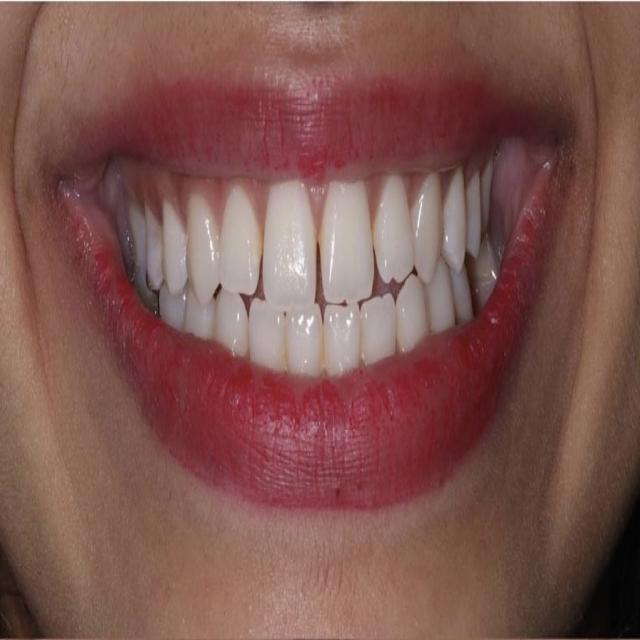tooth: (318, 186, 378, 306), (264, 180, 318, 312), (216, 188, 264, 300), (367, 190, 415, 277), (182, 199, 220, 294), (158, 214, 194, 295), (322, 304, 364, 373), (414, 178, 442, 280), (211, 293, 247, 361), (362, 298, 403, 353), (446, 169, 468, 262), (252, 305, 284, 367), (156, 279, 194, 330), (398, 284, 429, 344), (143, 204, 163, 287), (430, 270, 454, 334), (292, 322, 317, 379), (186, 299, 213, 343)
